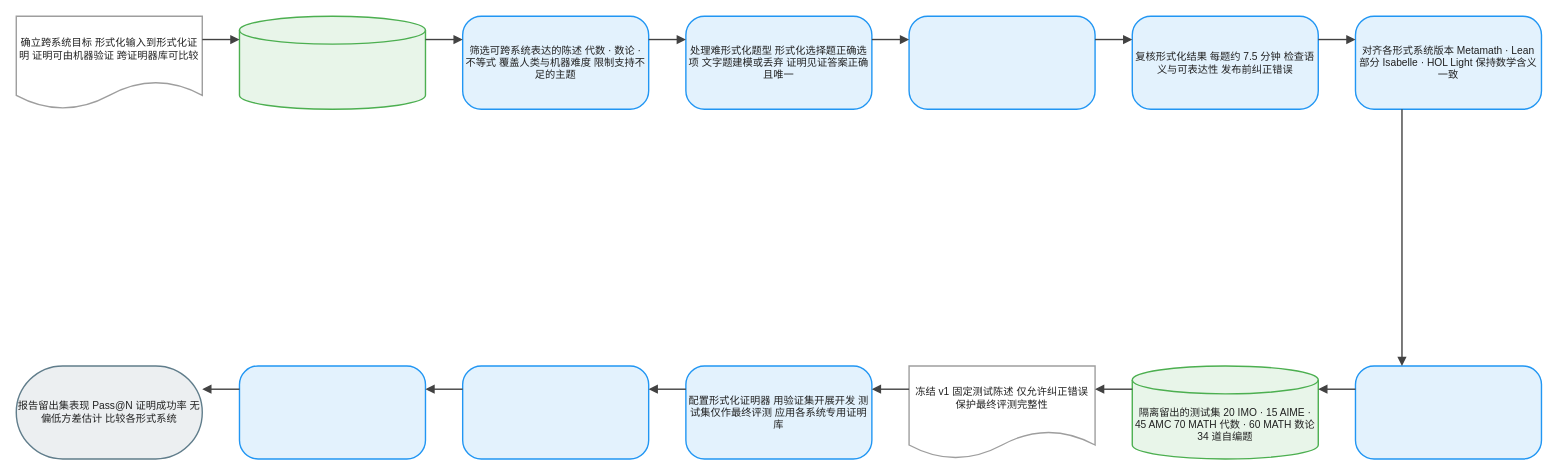
Image size: 1559x476. Some labels were removed from this diagram. The box of each missing label's shape, as (x1, y1, x2, y2) in pixels:
人工形式化题目陈述 由受训实践者完成 每题约 15 分钟 可选附带形式化证明: (908, 15, 1095, 110)
分层划分 MiniF2F v1 共 488 条陈述 均衡题型与可用难度 验证 244 · 测试 244: (1354, 365, 1542, 459)
执行形式化证明搜索 输入每条对齐测试陈述 采样 N 次搜索 保留候选证明脚本: (462, 365, 649, 459)
收集非形式化数学题 IMO · AIME · AMC MATH 数据集 自编数学练习: (238, 15, 426, 110)
机器检查候选证明 在目标形式系统中执行 任一次接受即计该题成功 拒绝无效证明: (238, 365, 426, 459)
